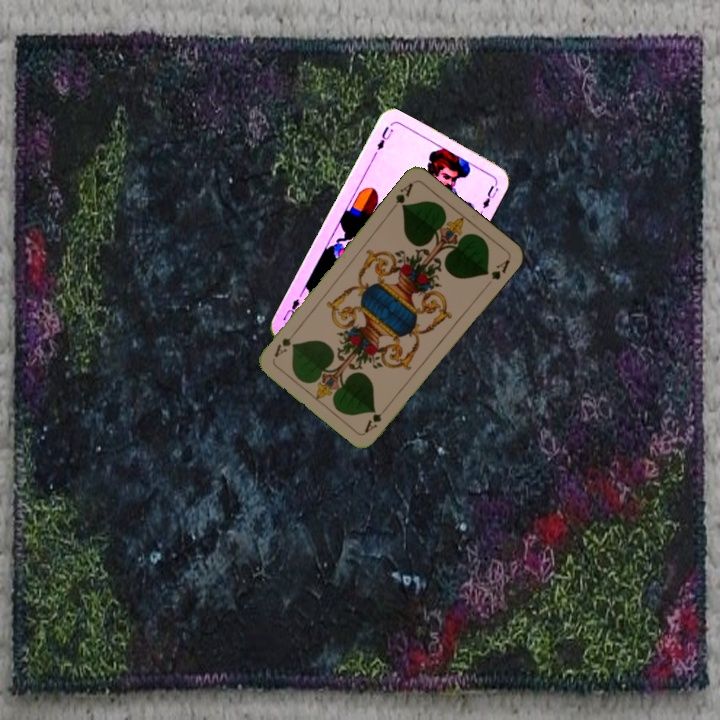EU: (373, 122, 396, 153)
GA: (360, 402, 392, 435), (387, 179, 416, 214)
